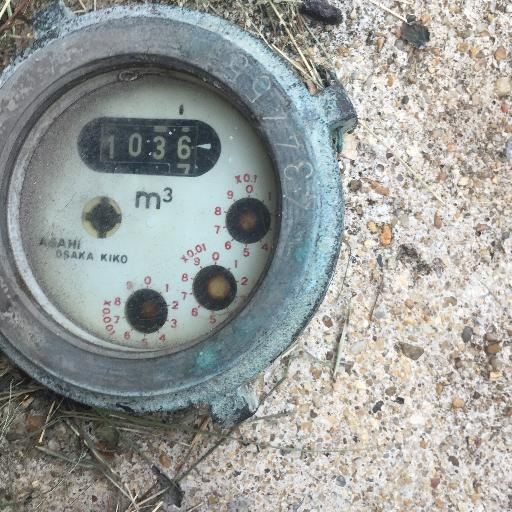0: (124, 126, 146, 163)
1: (103, 126, 122, 163)
3: (148, 127, 168, 164)
6: (174, 127, 197, 176)
border_water_meter_number: (77, 116, 222, 178)
